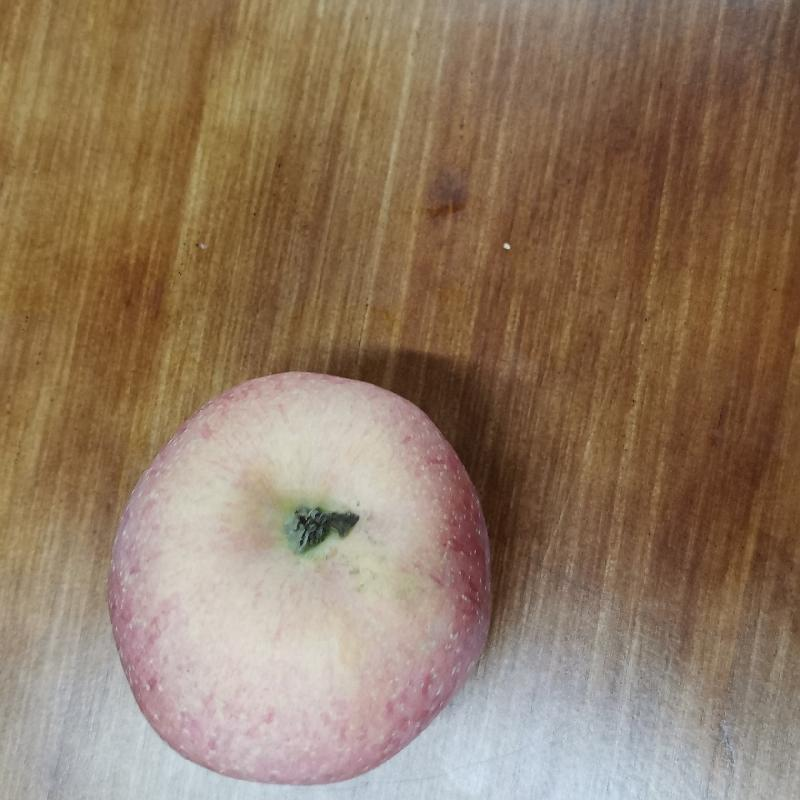apples: (98, 368, 510, 786)
